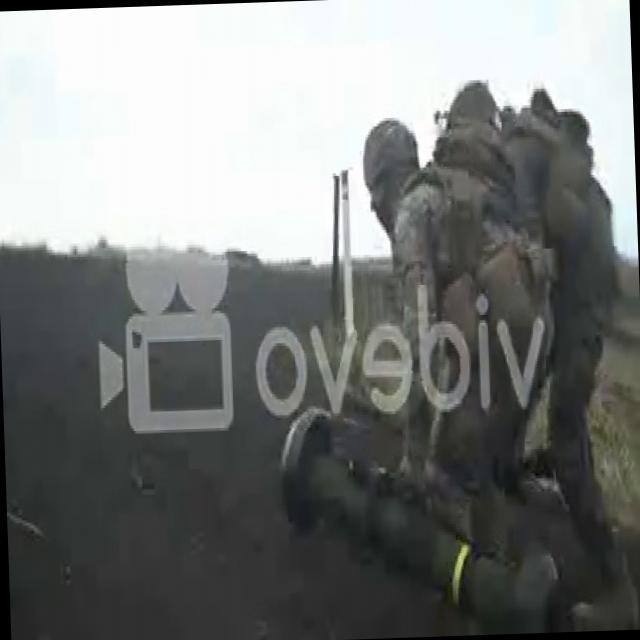rocket: (278, 393, 558, 634)
